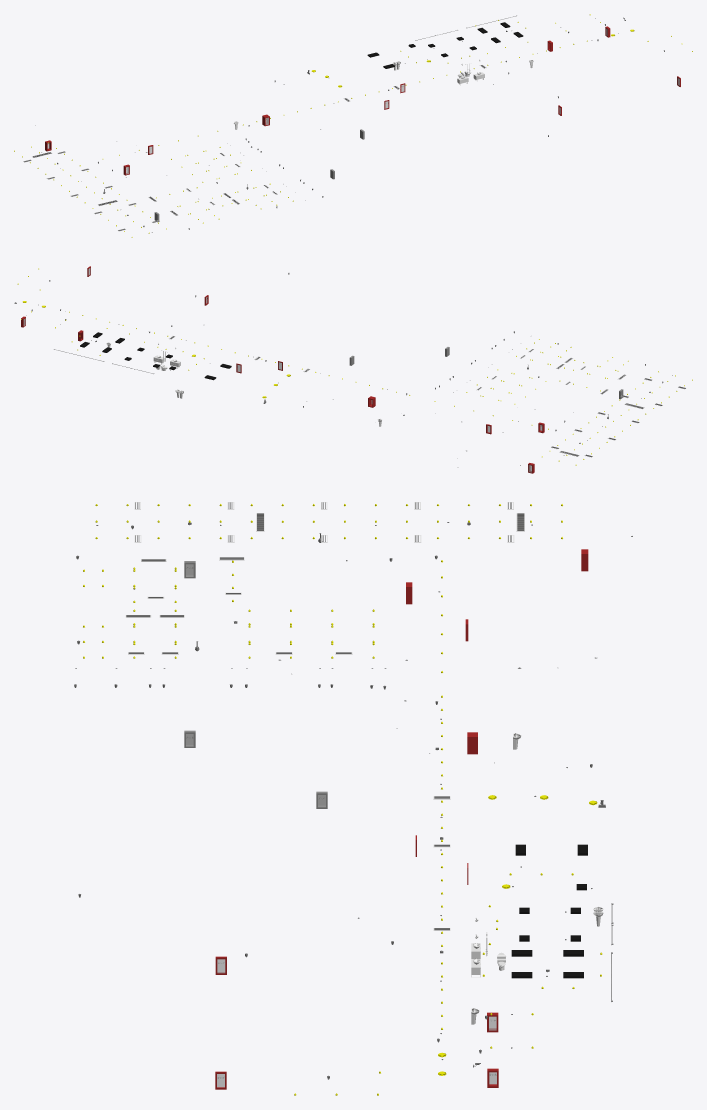
File: F2_shebei.glb
3 views of the same model, one above another, from view 1: azimuth 30°, elevation 25°; view 2: azimuth 150°, elevation 25°; view 3: azimuth 270°, elevation 25° (orthographic). The views are drawn at different scales.
Bounding box in the file's own units: 81.49 × 3.57 × 32.43.
